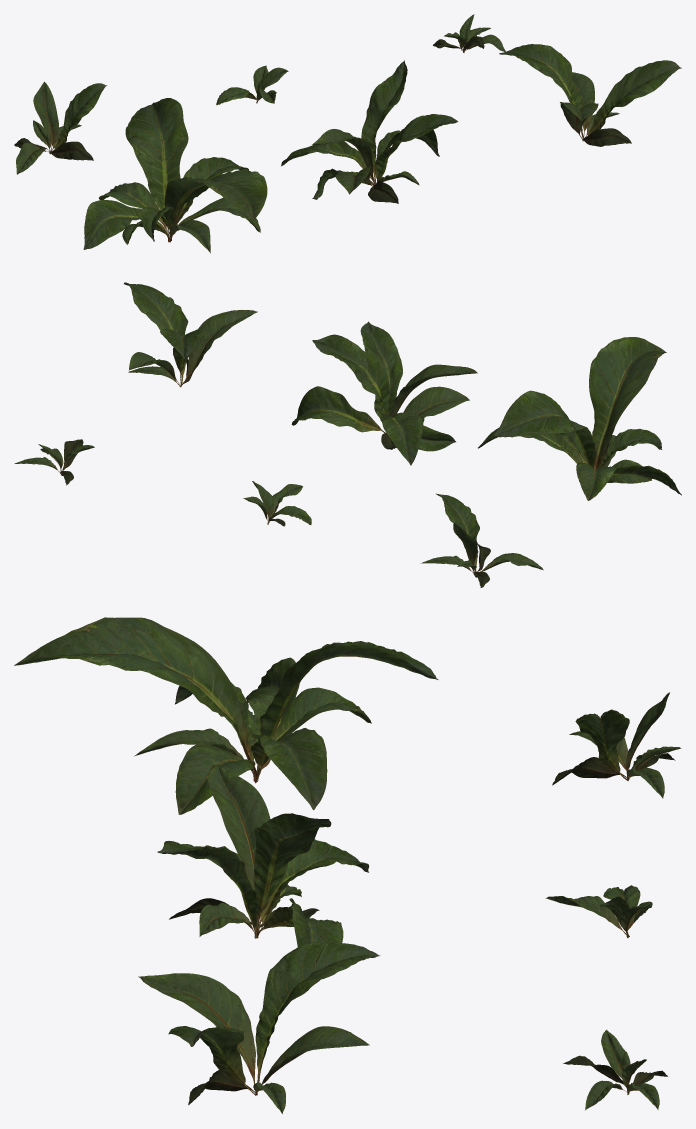
Rendered from anthurium_botany_01_2k.gltf.
3 views of the same model, one above another, from view 1: azimuth 30°, elevation 25°; view 2: azimuth 150°, elevation 25°; view 3: azimuth 270°, elevation 25° (orthographic). The views are drawn at different scales.
Parts seen in each view (by area): view 1: anthurium_botany_01_a, anthurium_botany_01_b, anthurium_botany_01_c, anthurium_botany_04_d, anthurium_botany_05_e, anthurium_botany_06_f; view 2: anthurium_botany_01_a, anthurium_botany_01_b, anthurium_botany_01_c, anthurium_botany_04_d, anthurium_botany_05_e, anthurium_botany_06_f; view 3: anthurium_botany_01_a, anthurium_botany_01_b, anthurium_botany_01_c, anthurium_botany_04_d, anthurium_botany_06_f, anthurium_botany_05_e.
Boxes of the visible parts, box(x1,y1,x2,y2) form: anthurium_botany_01_a: box(83, 98, 267, 253); anthurium_botany_01_b: box(281, 60, 458, 203); anthurium_botany_01_c: box(499, 44, 681, 146); anthurium_botany_04_d: box(14, 81, 106, 174); anthurium_botany_05_e: box(216, 65, 288, 105); anthurium_botany_06_f: box(433, 14, 505, 52); anthurium_botany_01_a: box(478, 337, 681, 500); anthurium_botany_01_b: box(291, 321, 477, 465); anthurium_botany_01_c: box(124, 282, 257, 387); anthurium_botany_04_d: box(420, 493, 543, 587); anthurium_botany_05_e: box(243, 481, 311, 526); anthurium_botany_06_f: box(14, 439, 94, 485); anthurium_botany_01_a: box(14, 617, 438, 814); anthurium_botany_01_b: box(157, 763, 369, 984); anthurium_botany_01_c: box(138, 941, 380, 1113); anthurium_botany_04_d: box(552, 692, 681, 798); anthurium_botany_06_f: box(563, 1030, 667, 1110); anthurium_botany_05_e: box(545, 885, 652, 937).
Size of the model in its own units: 2.8 by 0.5015 by 1.8.
Materials: 1 (1 with a texture image).
